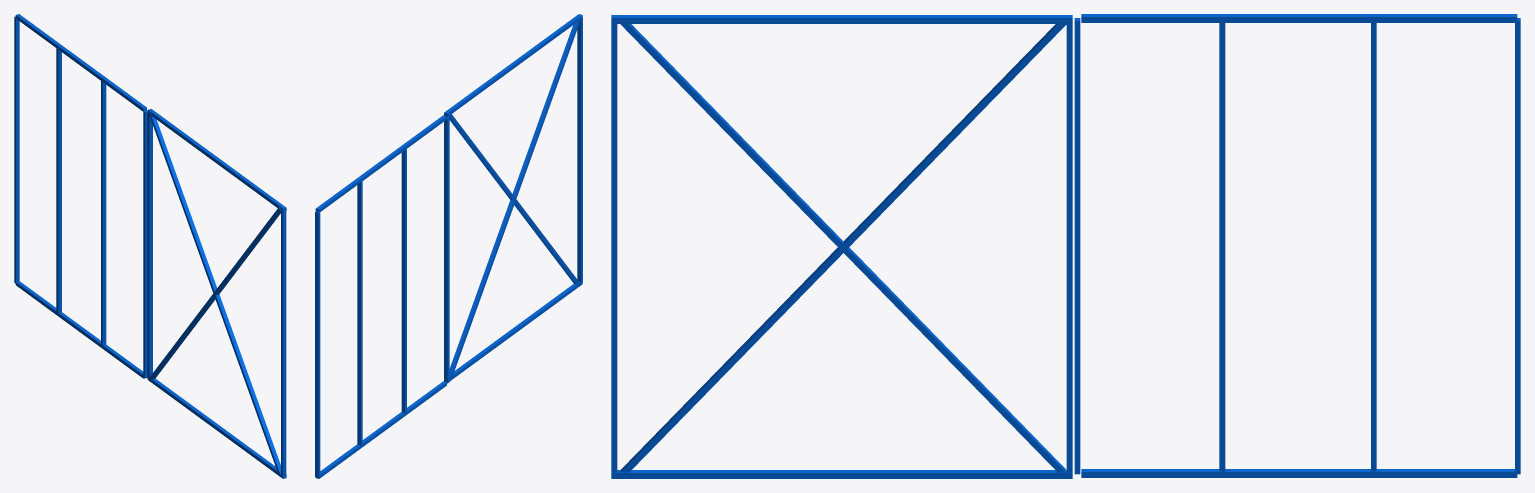
The model's file is W04_Wall_02_Break_C.fbx.
3 renders of one model, left to right at view 1: azimuth 30°, elevation 25°; view 2: azimuth 150°, elevation 25°; view 3: azimuth 270°, elevation 25°, orthographic. The views are drawn at different scales.
Visible parts, largest first — view 1: W04_Wall_02_Break_C; view 2: W04_Wall_02_Break_C; view 3: W04_Wall_02_Break_C.
Part boxes in pixels (left/top/right/bottom): W04_Wall_02_Break_C: left=14, top=14, right=286, bottom=478; W04_Wall_02_Break_C: left=315, top=14, right=582, bottom=478; W04_Wall_02_Break_C: left=611, top=14, right=1520, bottom=478.
Size of the model in its own units: 23.29 by 1028 by 1838.
